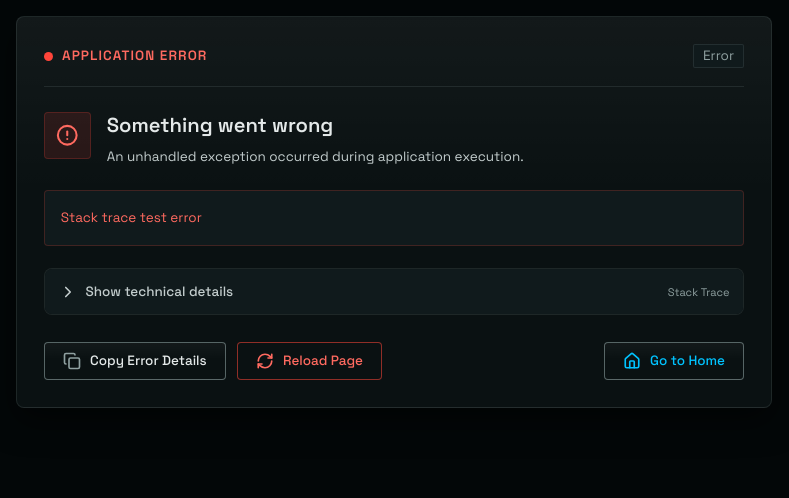
Test: HUDErrorBoundary & HUDErrorFallback › allows expanding technical details / stack trace
expect the text "at TestCall" is not shown: met
Click the text "Show technical details".
click(146, 292)  # box [58,283,233,301]
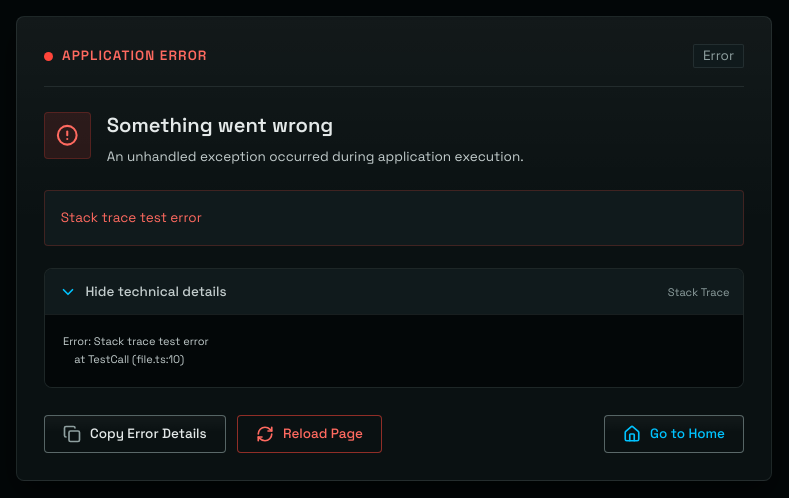
expect the text "Error: Stack trace test error at TestCall (file.ts:10)" is shown: met, box [45,314,743,387]
expect the text "Hide technical details" is shown: met, box [58,283,227,301]
